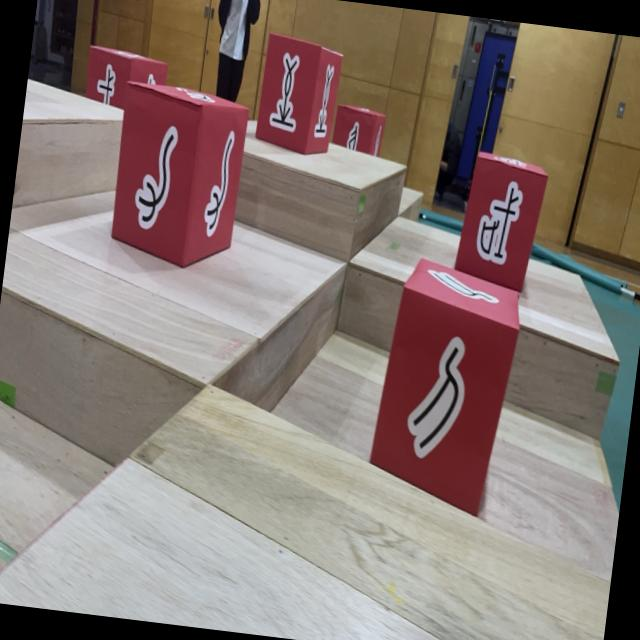10: (402, 330, 472, 464), (424, 268, 502, 306)
13: (131, 119, 180, 234), (200, 127, 238, 241)
5: (473, 174, 526, 268), (345, 120, 360, 150), (372, 126, 382, 156)
7: (266, 49, 304, 132), (312, 62, 336, 140)
9: (94, 61, 119, 106)
fighter: (364, 254, 527, 520), (104, 78, 250, 274), (452, 148, 551, 294), (253, 31, 344, 158), (82, 44, 170, 114), (330, 102, 388, 158)
